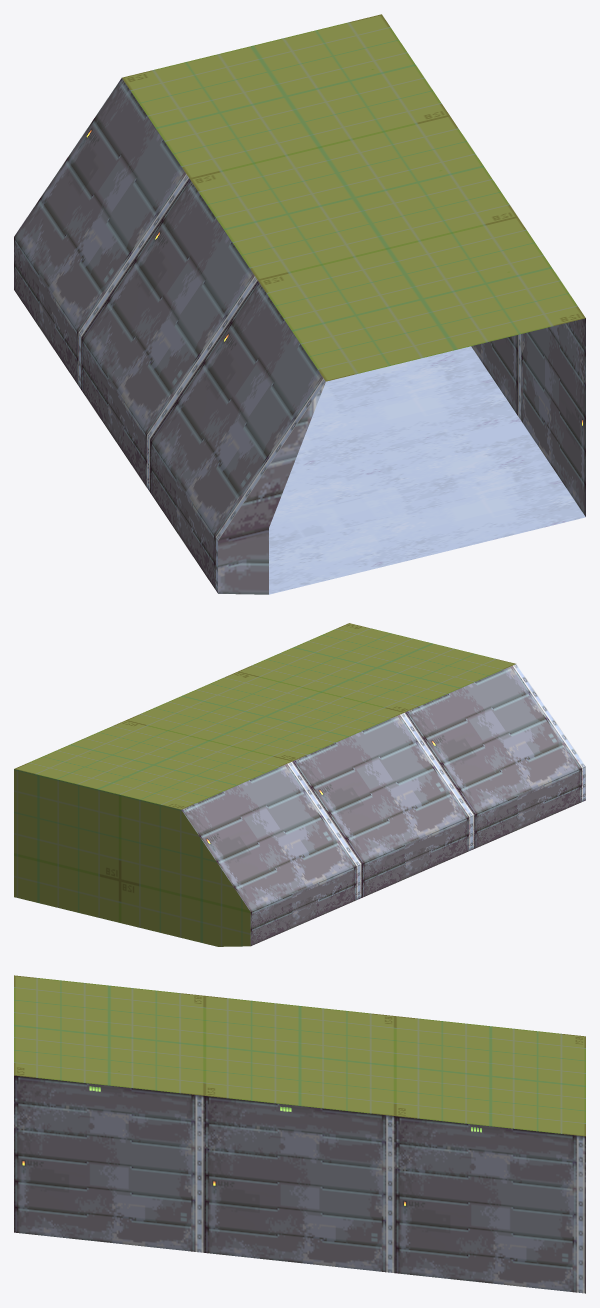
Rendered from hoobase1_room0.dae.
3 views of the same model, one above another, from view 1: azimuth 30°, elevation 25°; view 2: azimuth 150°, elevation 25°; view 3: azimuth 270°, elevation 25° (orthographic). The views are drawn at different scales.
Visible parts, largest first — view 1: Room001-col; view 2: Room001-col; view 3: Room001-col.
Part boxes in pixels (x1=…): Room001-col: x1=14, y1=14, x2=585, y2=594; Room001-col: x1=14, y1=623, x2=585, y2=946; Room001-col: x1=14, y1=975, x2=585, y2=1293.
Size of the model in its own units: 8.3 by 9.9 by 3.
